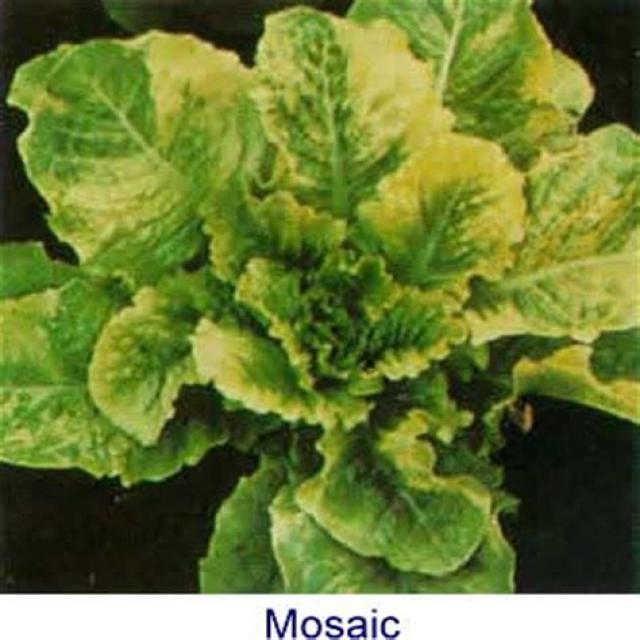Viral: (209, 76, 539, 398)
